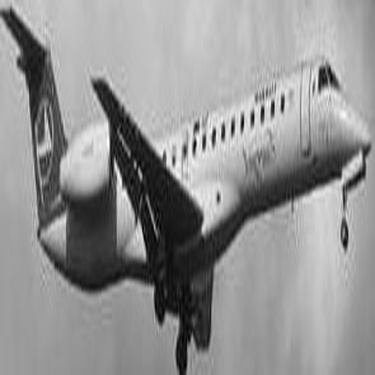airplane: (5, 5, 368, 372)
